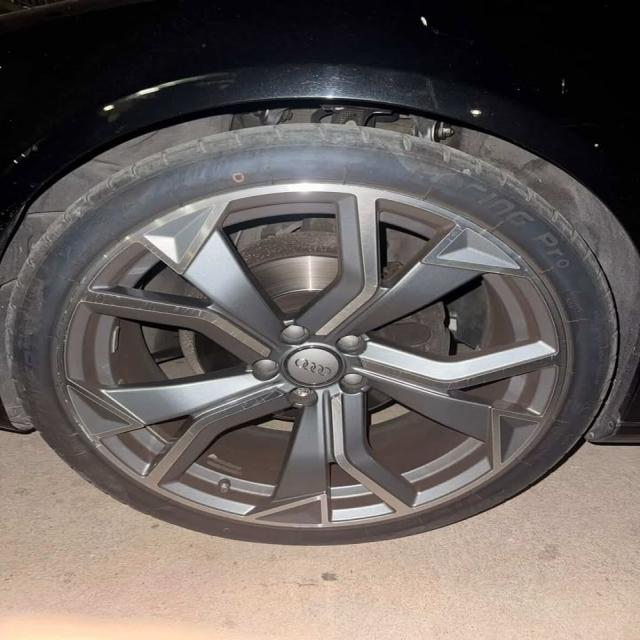jante: (59, 183, 563, 527)
parafuso: (326, 331, 372, 359), (273, 322, 314, 347), (286, 385, 323, 410), (246, 360, 285, 382), (337, 373, 370, 395)
roda: (0, 118, 640, 546)
